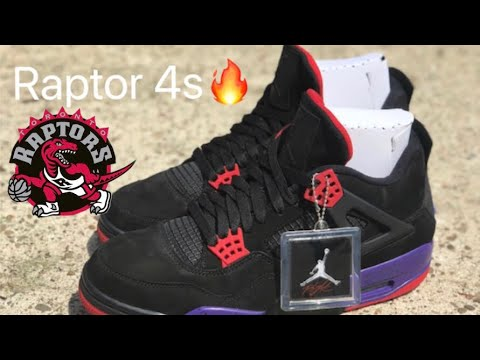Air Jordan 4 Raptors: (77, 87, 441, 319)
